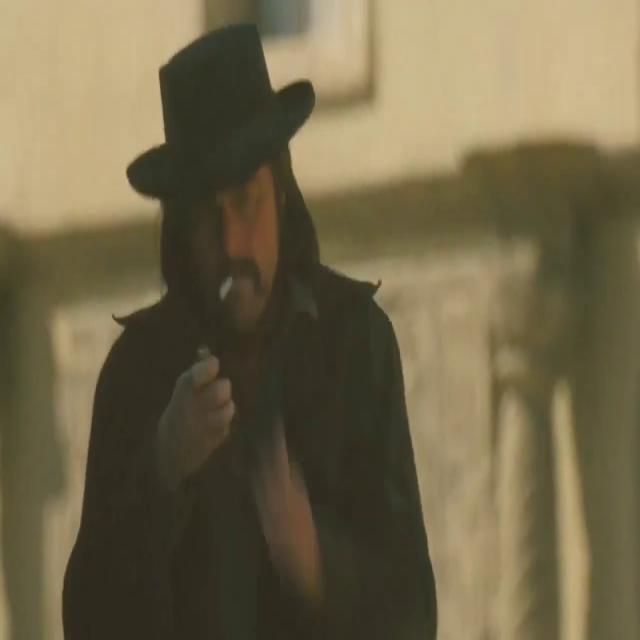Smooking: (212, 270, 240, 310)
